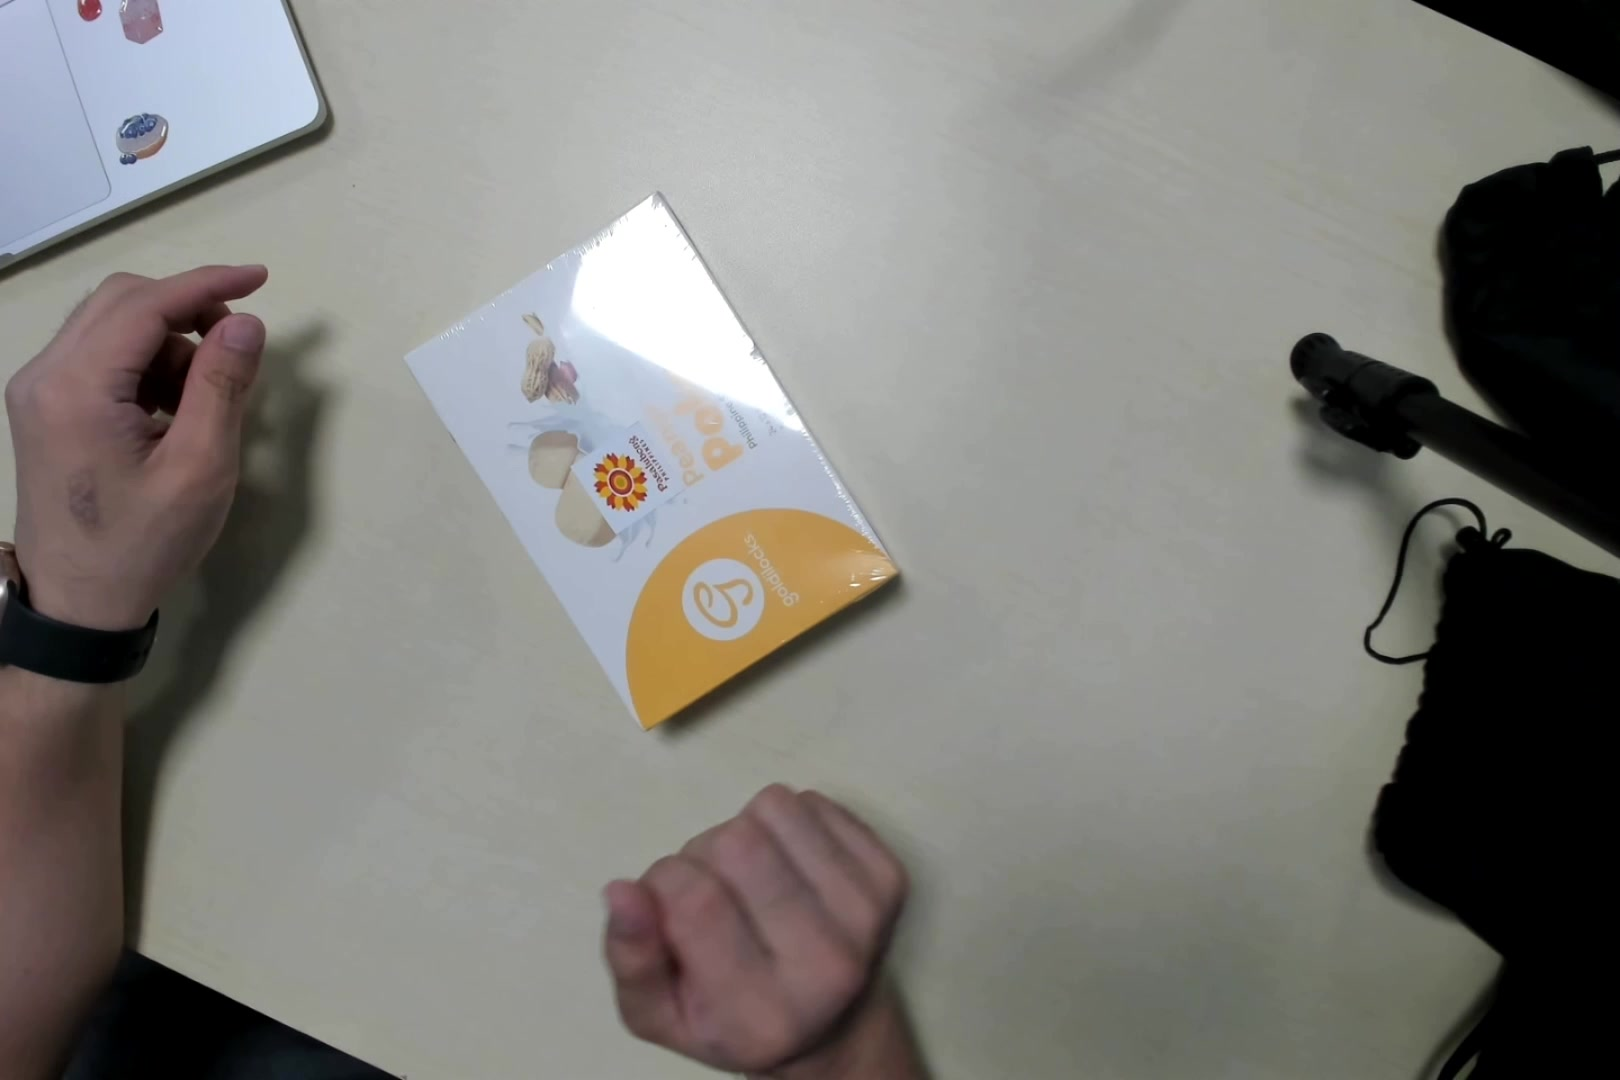SweetsChocolatesOthers_300-399g_Halal_NonHealthy: (425, 192, 910, 744)
